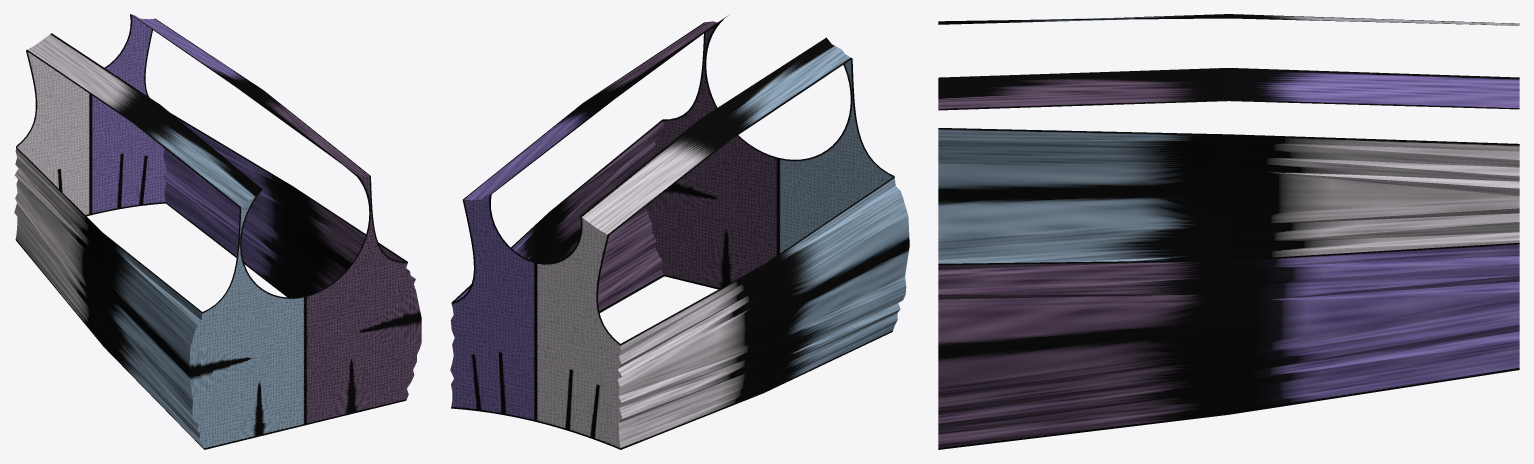
File: tank_tight10v_boxmesh.obj
3 renders of one model, left to right at view 1: azimuth 30°, elevation 25°; view 2: azimuth 150°, elevation 25°; view 3: azimuth 270°, elevation 25°, orthographic. The views are drawn at different scales.
Size of the model in its own units: 34.41 by 35.48 by 55.
1 material, 1 textured.
